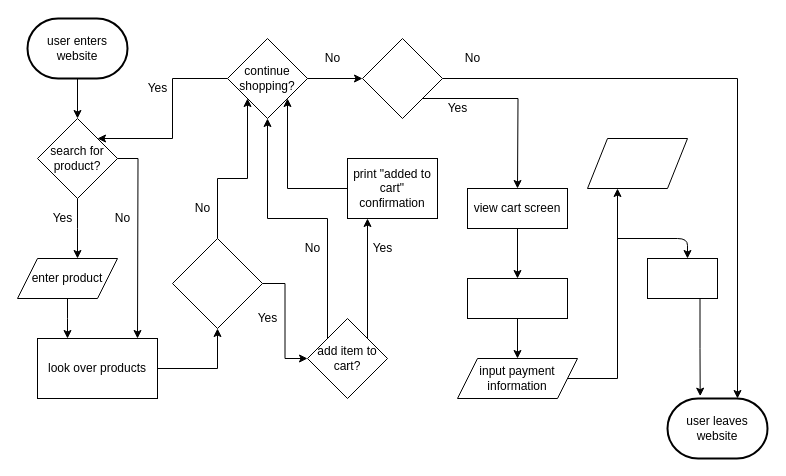
The diagram is 786 pixels wide and 476 high, and some of its shapes have lost their labels. The shapes that lost their labels are listed below. From the top down, each one's centre as x and y in pixels, then its label:
At point (402, 78): "checkout?".
At point (637, 163): "send confirmation email".
At point (217, 283): "view specific product?".
At point (517, 298): "view payment".
At point (682, 278): "confirmation screen".
